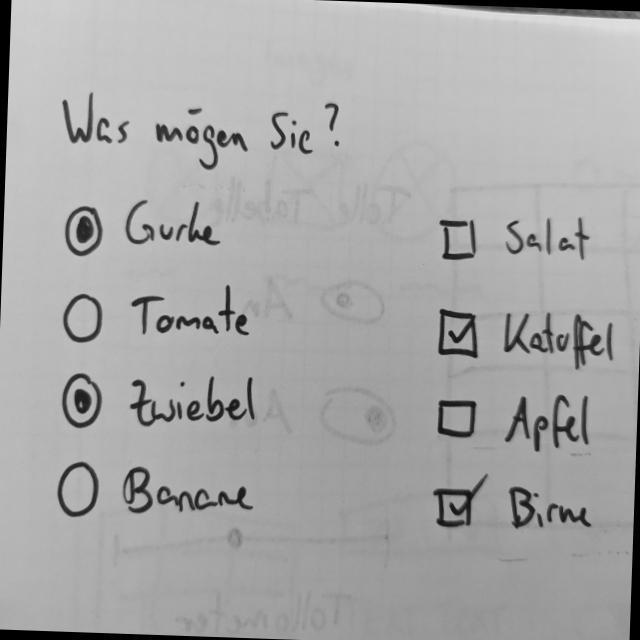checkbox: (435, 303, 621, 379), (433, 384, 595, 459), (429, 472, 595, 540), (439, 210, 595, 270)
label: (51, 89, 350, 182)
radio: (61, 192, 109, 262), (60, 370, 109, 432), (58, 462, 105, 520), (64, 291, 104, 345)
